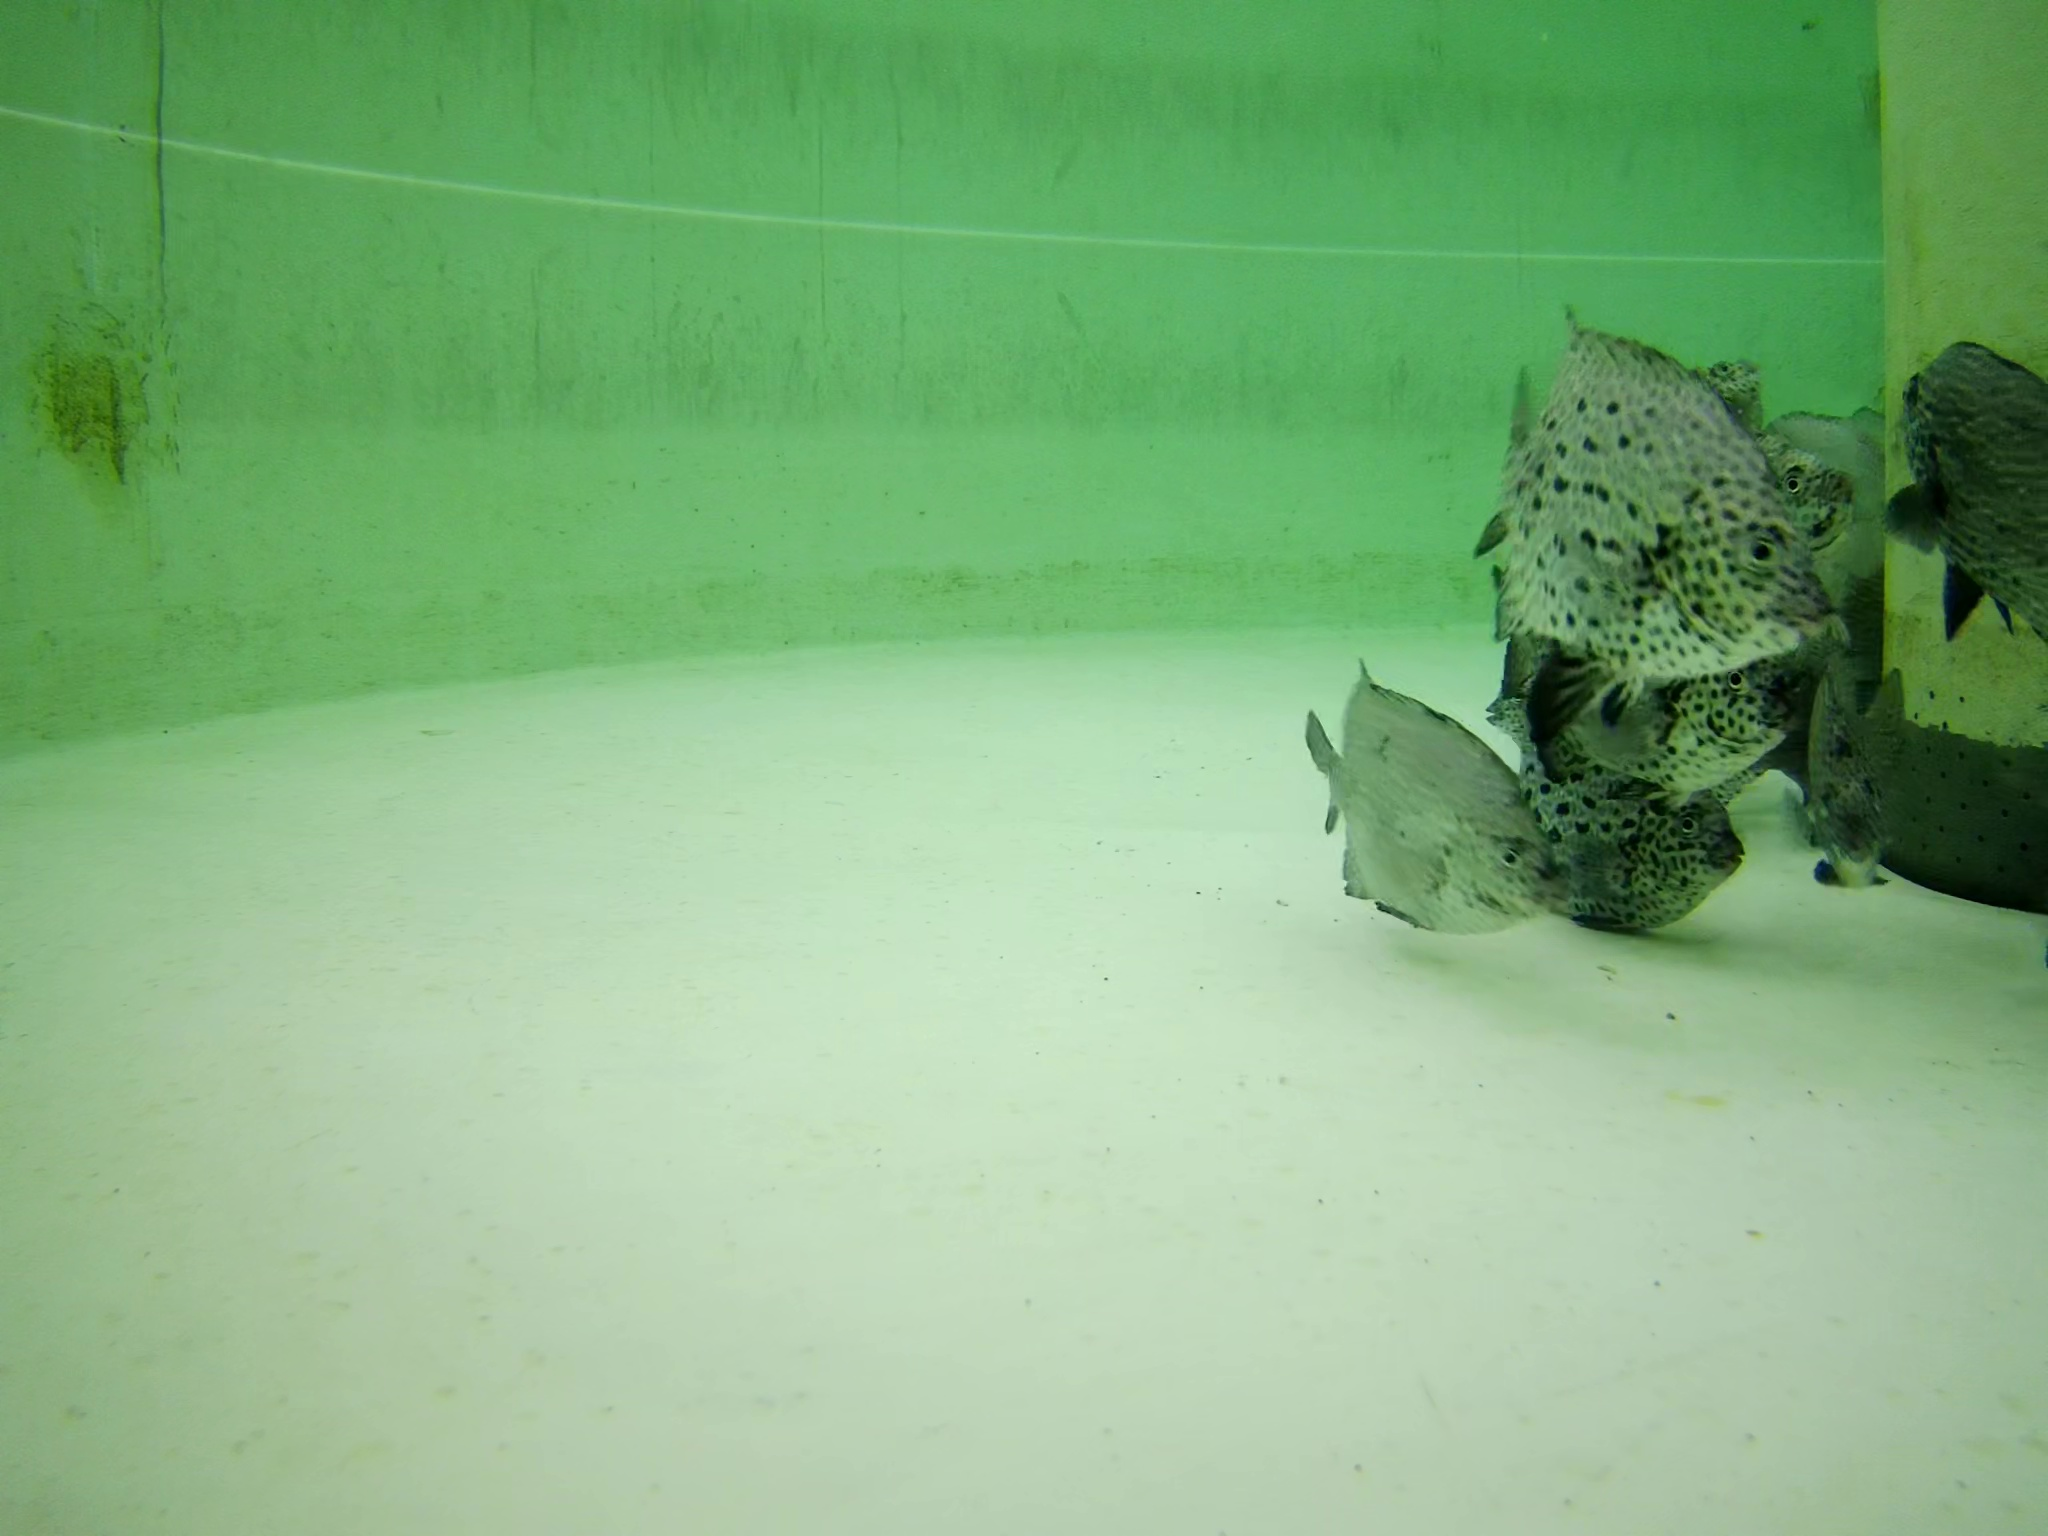fish: (1476, 316, 1846, 678), (1297, 653, 1564, 942), (1488, 707, 1746, 934), (1888, 336, 2048, 631), (1584, 650, 1787, 807), (1743, 407, 1898, 581), (1808, 679, 1914, 883)
